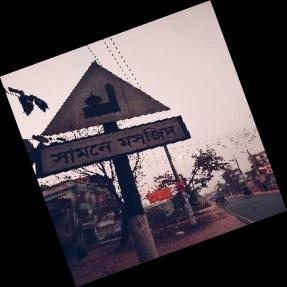Mosque in front: (42, 60, 193, 183)
